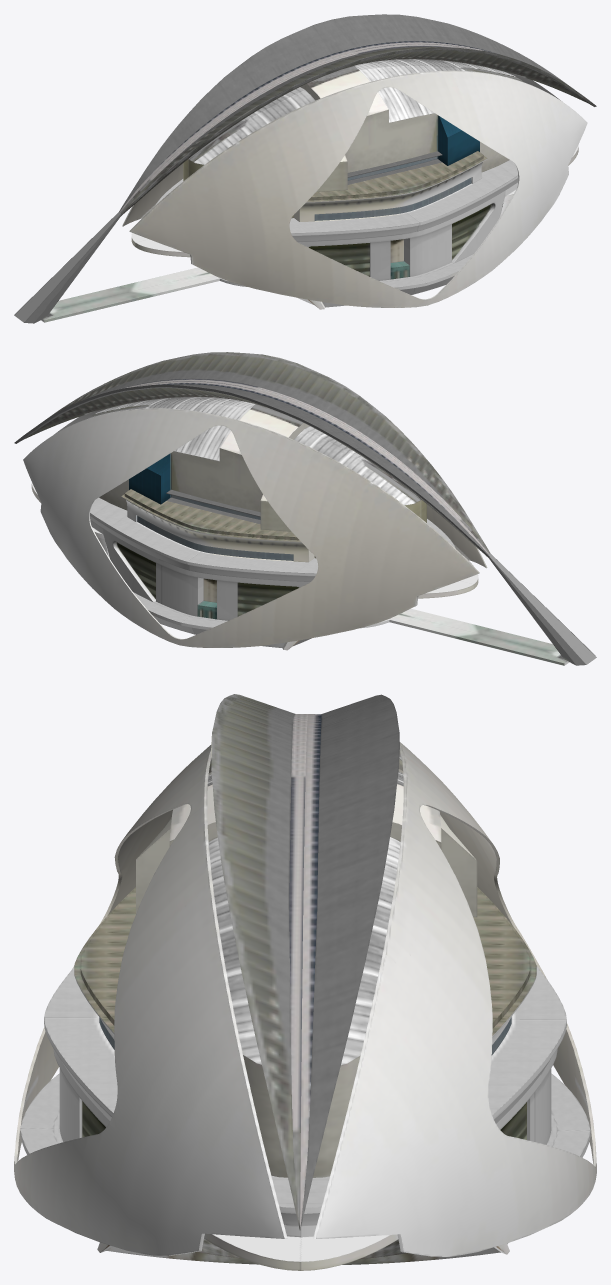
Rendered from PIIE_AR_MO026_ARTS.fbx.
3 views of the same model, one above another, from view 1: azimuth 30°, elevation 25°; view 2: azimuth 150°, elevation 25°; view 3: azimuth 270°, elevation 25° (orthographic). The views are drawn at different scales.
Visible parts, largest first — view 1: cac-pa_arranque.001; view 2: cac-pa_arranque.001; view 3: cac-pa_arranque.001.
Boxes of the visible parts, left/top/right/bottom form: cac-pa_arranque.001: left=14, top=14, right=596, bottom=323; cac-pa_arranque.001: left=14, top=352, right=596, bottom=665; cac-pa_arranque.001: left=14, top=694, right=596, bottom=1270.
Size of the model in its own units: 51.14 by 18.18 by 22.71.
Materials: 1 (1 with a texture image).
